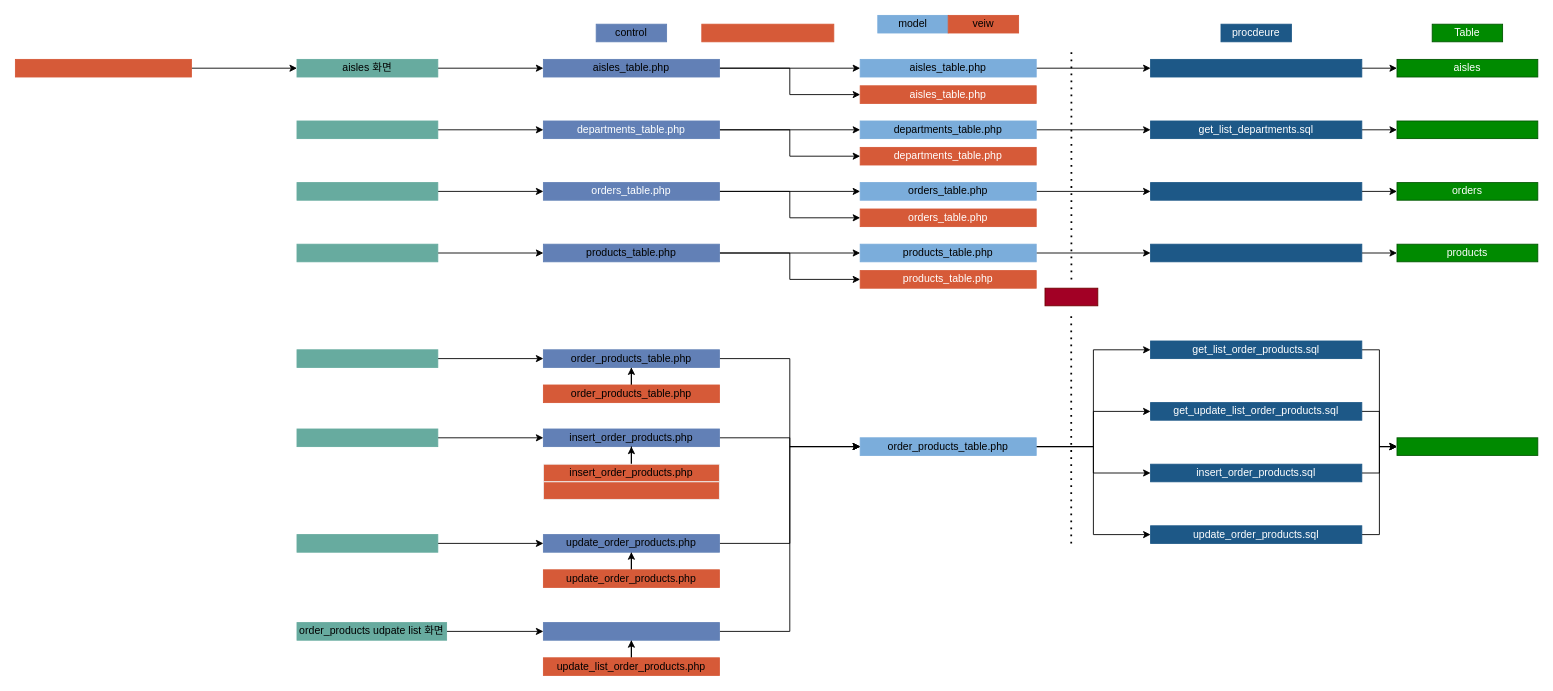
This 1553x691 diagram has some shape labels left out. The centre of each missing label's shape, as x and y in pixels:
DB: (1071,296)
department 화면: (367,129)
departments: (1467,129)
get_list_aisles.sql: (1256,68)
get_list_orders.sql: (1256,191)
get_list_products.sql: (1256,252)
include.php 모두 포함: (767,32)
index.php: (103,68)
order_products: (1467,446)
order_products insert 화면: (367,437)
order_products udpate 화면: (367,543)
order_products 화면: (367,358)
orders 화면: (367,191)
products 화면: (367,252)
success_insert_order_products.php: (631,490)
update_order_products_date.php: (631,631)
